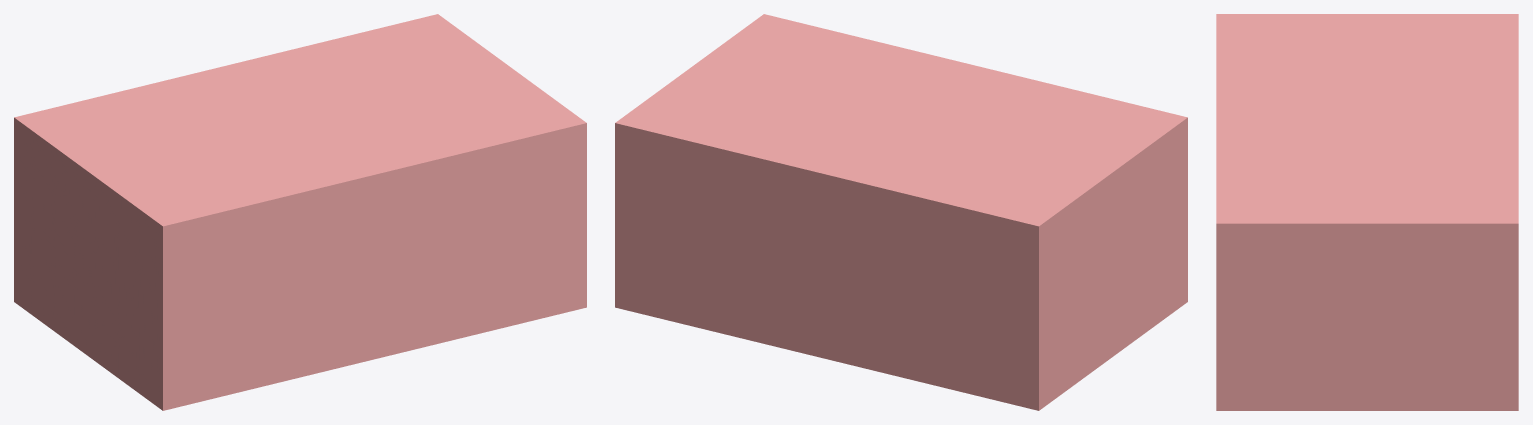
File: Museum_1212.fbx
The picture shows the model from 3 angles, left to right: view 1: azimuth 30°, elevation 25°; view 2: azimuth 150°, elevation 25°; view 3: azimuth 270°, elevation 25°; orthographic projection.
Parts seen in each view (by area): view 1: Room; view 2: Room; view 3: Room.
Part boxes in pixels (x1,y1,x2,y2): Room: [14, 14, 586, 410]; Room: [615, 14, 1187, 410]; Room: [1216, 14, 1518, 410].
Bounding box in the file's own units: 6011 × 2500 × 3659.
